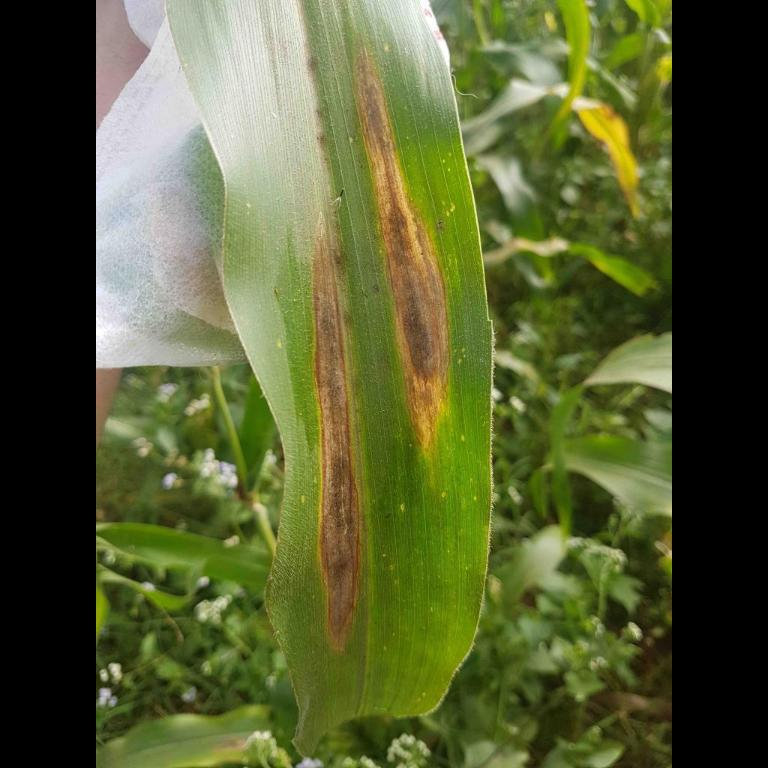blight: (340, 47, 466, 459)
